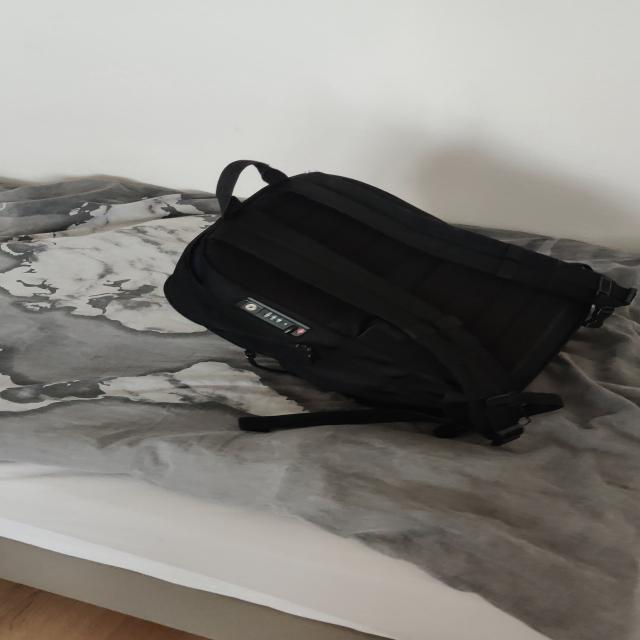backpack: (150, 153, 640, 444)
